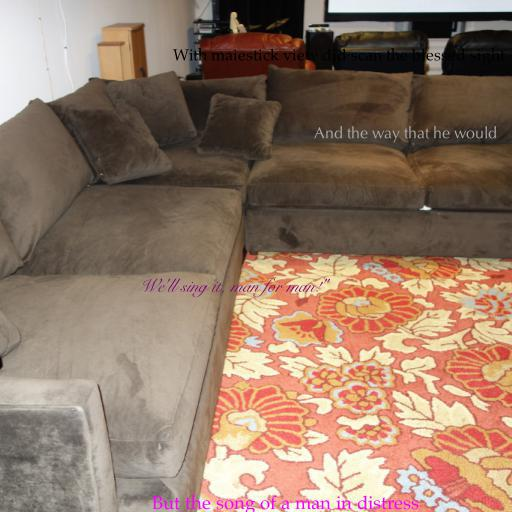Optima: (313, 126, 497, 143)
Palatino: (173, 47, 505, 65), (151, 494, 419, 512)
Snell Roundhand: (139, 278, 327, 298)
